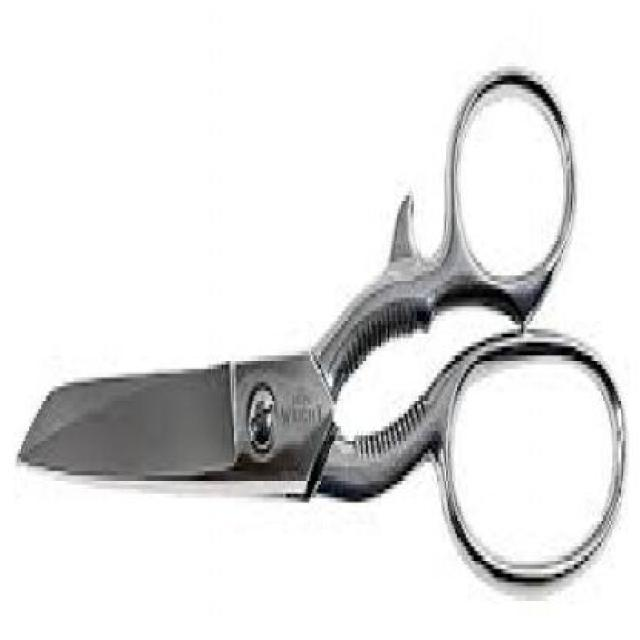scissors: (16, 62, 632, 587)
